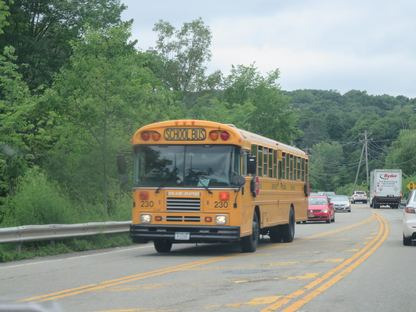bus: (117, 117, 311, 254)
car: (296, 193, 336, 224), (402, 187, 416, 252), (330, 193, 352, 214), (353, 188, 369, 205)
